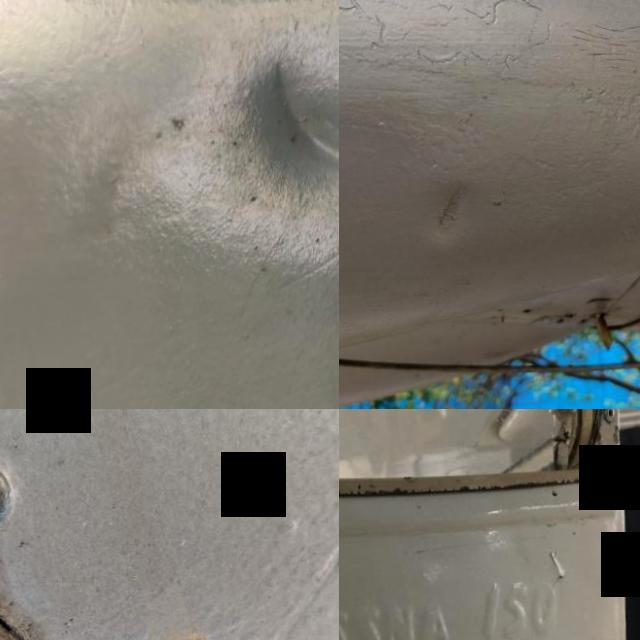Crack: (339, 456, 627, 509), (534, 522, 591, 608)
Dent: (223, 23, 339, 247), (409, 167, 494, 252)
Missing_Fastener: (0, 432, 36, 562)
